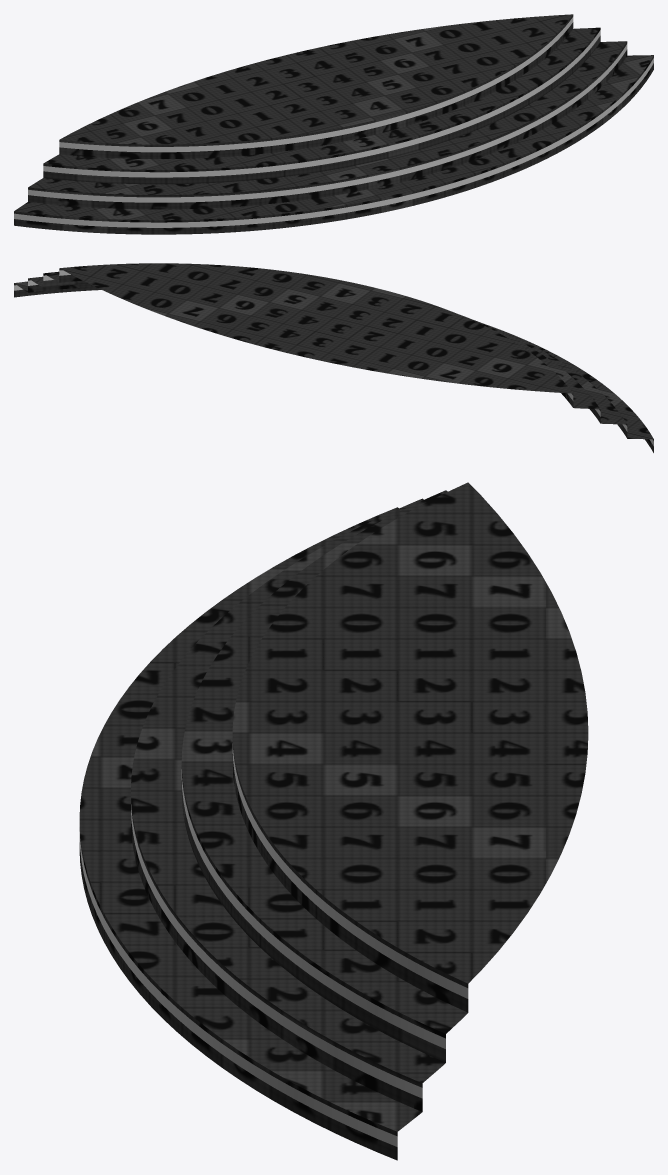
Rendered from DanceFloor01Stairs01.FBX.
The picture shows the model from 3 angles, top to bottom: view 1: azimuth 30°, elevation 25°; view 2: azimuth 150°, elevation 25°; view 3: azimuth 270°, elevation 25°; orthographic projection. The views are drawn at different scales.
Visible parts, largest first — view 1: DanceFloor01Stairs01; view 2: DanceFloor01Stairs01; view 3: DanceFloor01Stairs01.
Boxes of the visible parts, box(x1,y1,x2,y2) form: DanceFloor01Stairs01: box(14, 14, 653, 234); DanceFloor01Stairs01: box(14, 263, 653, 452); DanceFloor01Stairs01: box(79, 482, 588, 1160).
Size of the model in its own units: 871 by 75 by 300.
